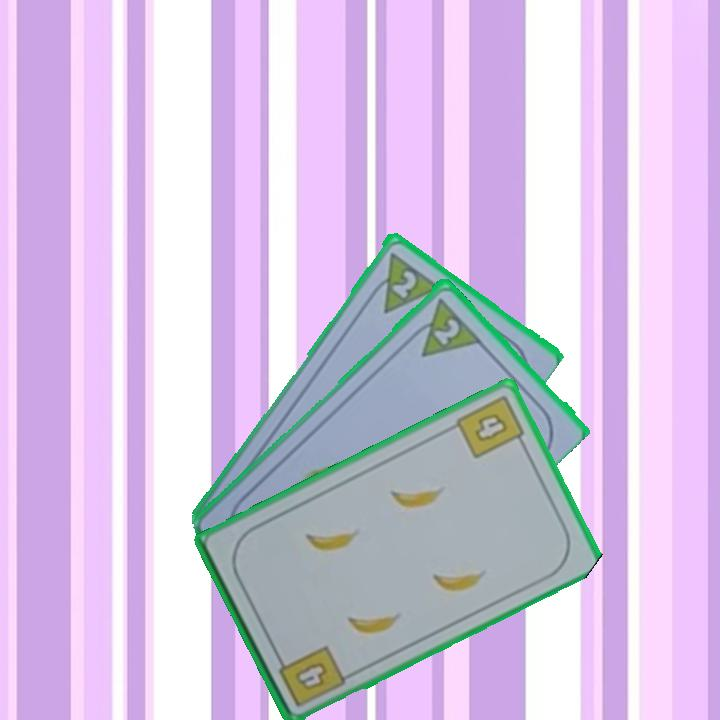2p: (363, 247, 442, 316), (430, 313, 463, 348)
4b: (452, 391, 530, 462), (273, 641, 348, 710)
